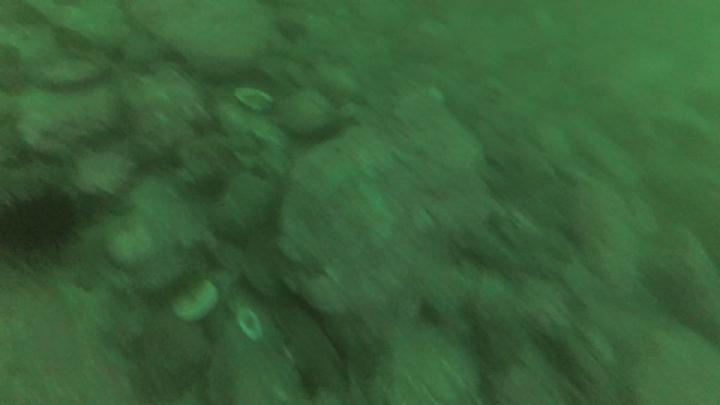echinus: (5, 185, 81, 269)
